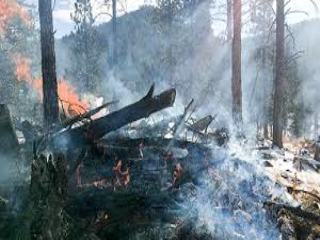fire: (16, 60, 85, 113)
smoke: (183, 125, 285, 238), (90, 79, 138, 120)
